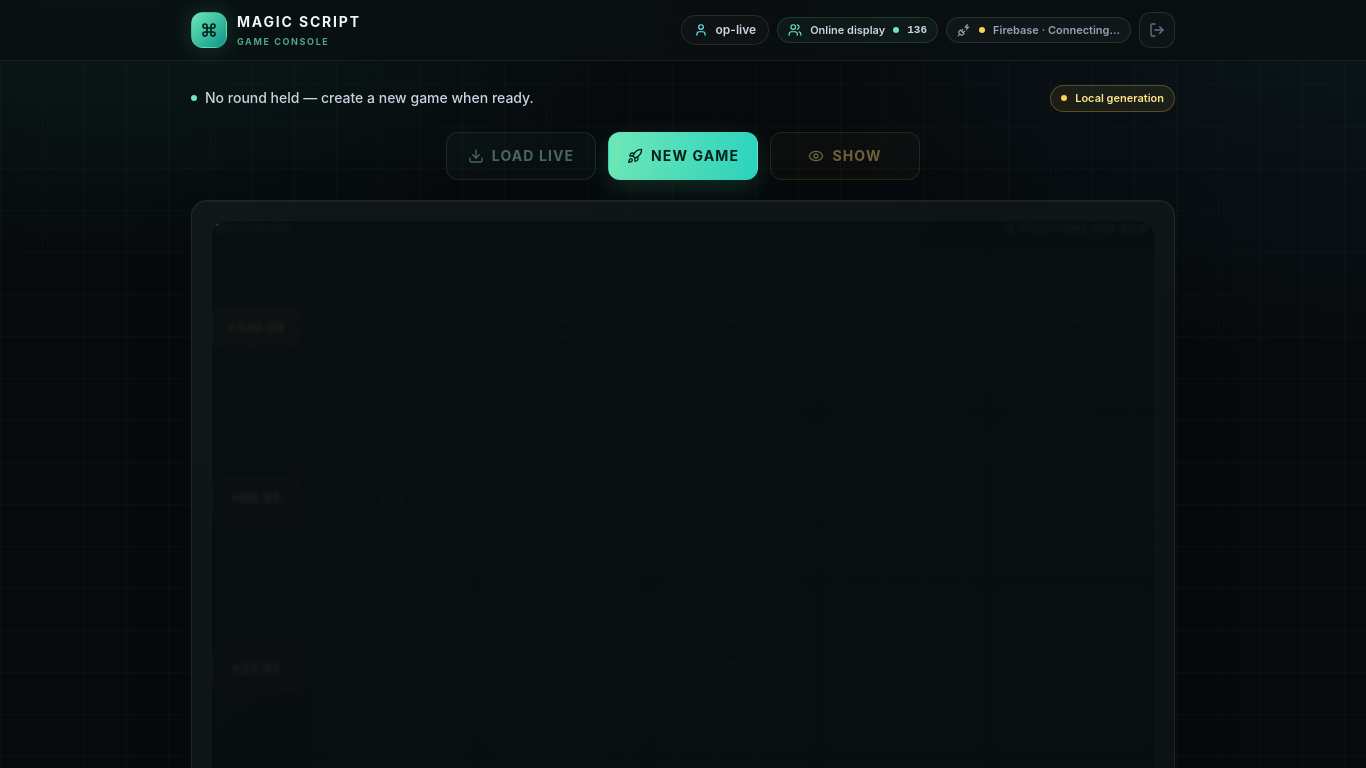
Test: Console — NEW GAME publishing flow › a snapshot arriving during a PUBLISHED reveal does not mutate the frozen round
Click the button "New game".
click(683, 156)  # box [608,132,758,180]
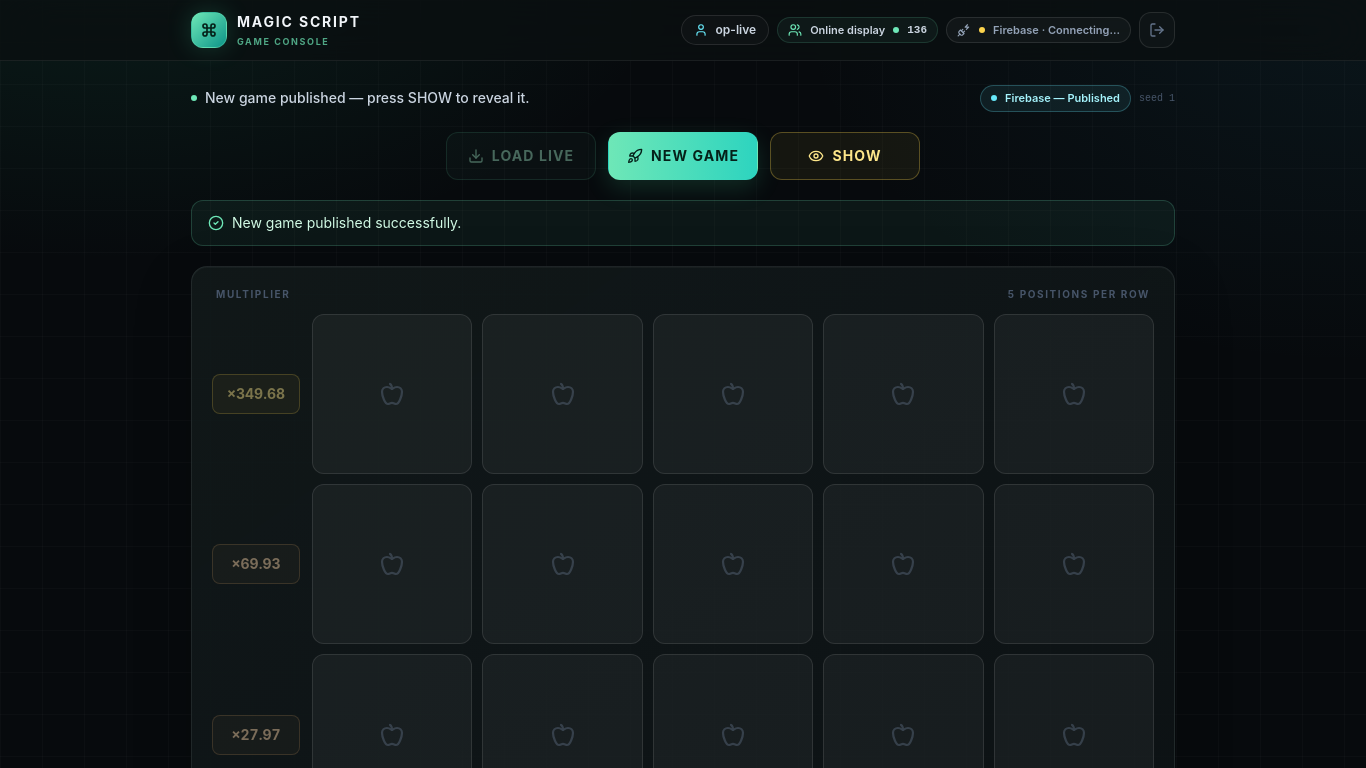
Click the button "Show".
click(845, 156)  # box [770,132,920,180]
Wait 6500 ms
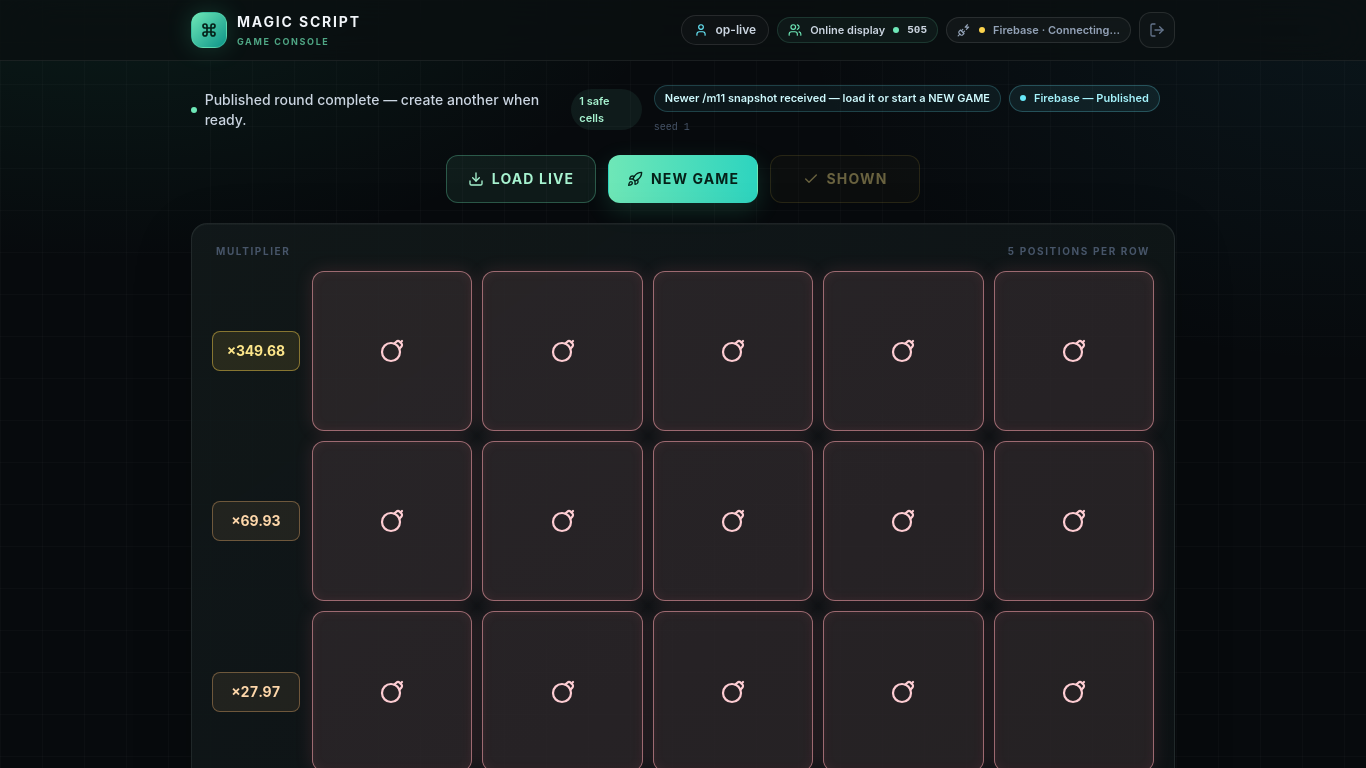
Expected: the element with test id "data-source-badge" reads "Firebase — Published", [1034,91,1149,105]
Expected: the text "Newer /m11 snapshot received — load it or start a NEW GAME" is shown, [654,85,1001,112]
